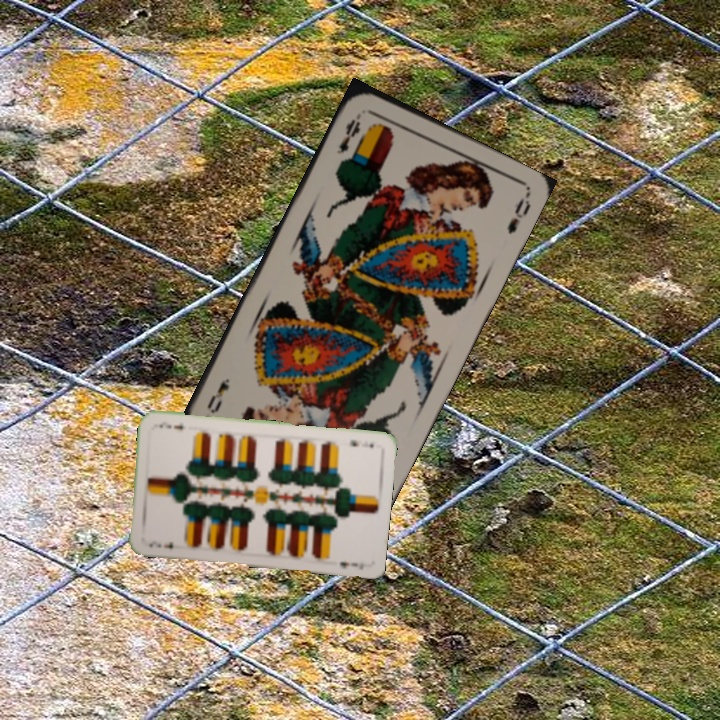E7: (346, 435, 376, 450), (145, 536, 175, 551)
EO: (332, 108, 364, 157)
